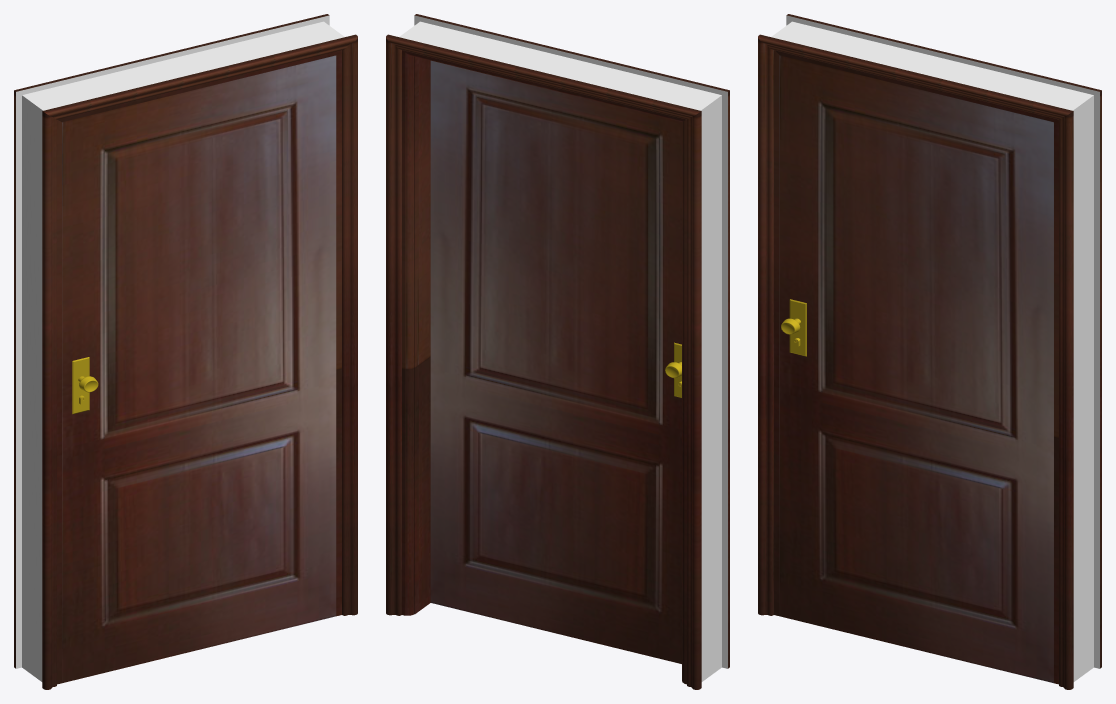
The model's file is Door.FBX.
3 renders of one model, left to right at view 1: azimuth 30°, elevation 25°; view 2: azimuth 150°, elevation 25°; view 3: azimuth 330°, elevation 25°, orthographic.
Visible parts, largest first — view 1: Group_002, Group_003, Portal - Alisar_002, Portal - Alisar_001, Espelho_002; view 2: Group_002, Group_003, Portal - Alisar_001, Portal - Alisar_002; view 3: Group_002, Group_003, Portal - Alisar_002, Portal - Alisar_001, Espelho_002.
Part boxes in pixels (bbox=[...]): Group_002: bbox=[62, 55, 336, 683]; Group_003: bbox=[22, 21, 344, 684]; Portal - Alisar_002: bbox=[42, 34, 357, 689]; Portal - Alisar_001: bbox=[14, 14, 329, 668]; Espelho_002: bbox=[72, 357, 89, 414]; Group_002: bbox=[430, 60, 681, 663]; Group_003: bbox=[399, 21, 721, 684]; Portal - Alisar_001: bbox=[386, 34, 701, 689]; Portal - Alisar_002: bbox=[414, 14, 729, 668]; Group_002: bbox=[779, 55, 1053, 683]; Group_003: bbox=[771, 21, 1093, 684]; Portal - Alisar_002: bbox=[758, 34, 1073, 689]; Portal - Alisar_001: bbox=[786, 14, 1101, 668]; Espelho_002: bbox=[789, 299, 806, 356].
Bounding box in the file's own units: 102 × 180 × 22.74.
Materials: 5 (2 with a texture image).
